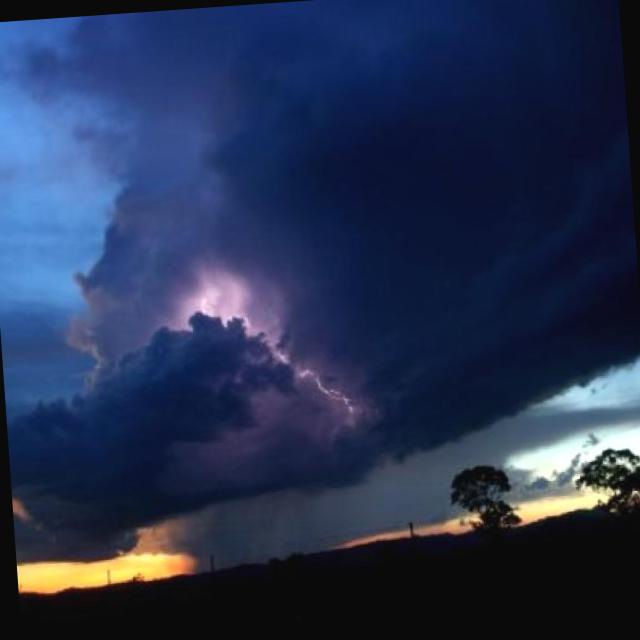cumulonimbus: (0, 2, 433, 561)
